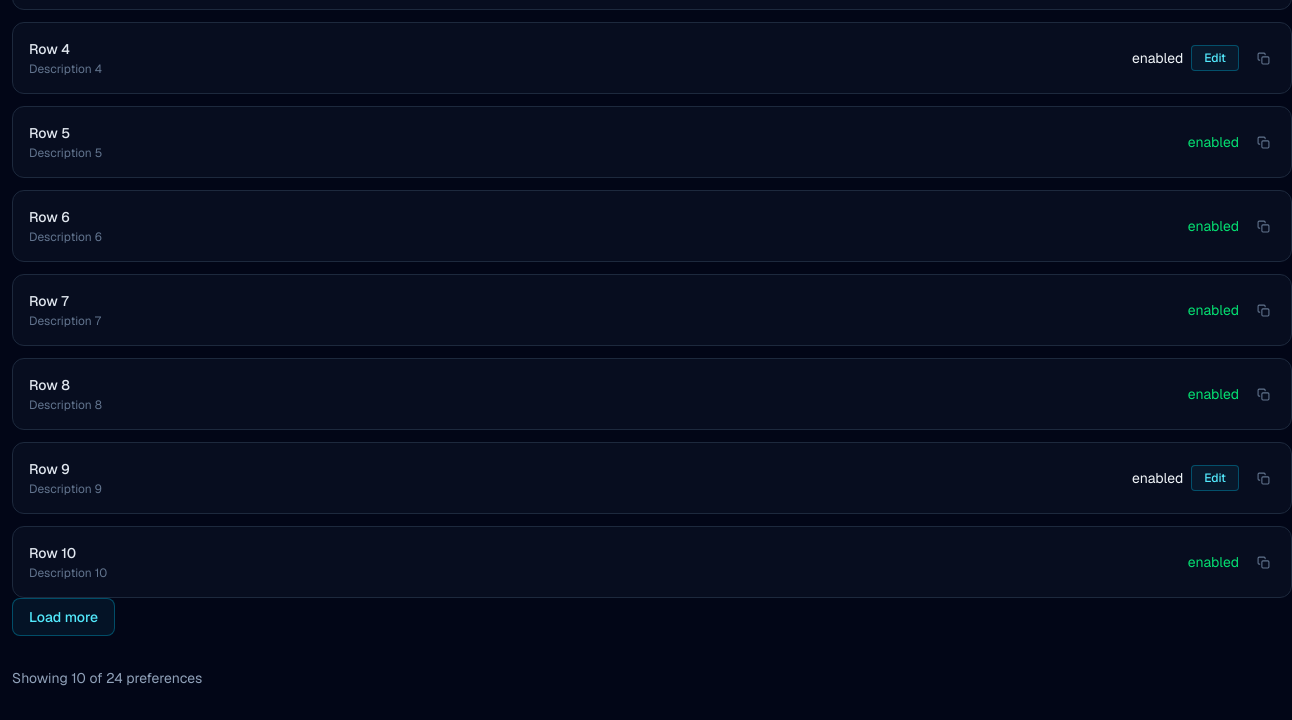
Test: SettingsPage – reset-on-filter behavior › clearing filters back to defaults shows every row again on the first page
(page scrolled)
Click the button with test id "settings-load-more" at (64,617), box [12, 598, 115, 636]
(page scrolled)
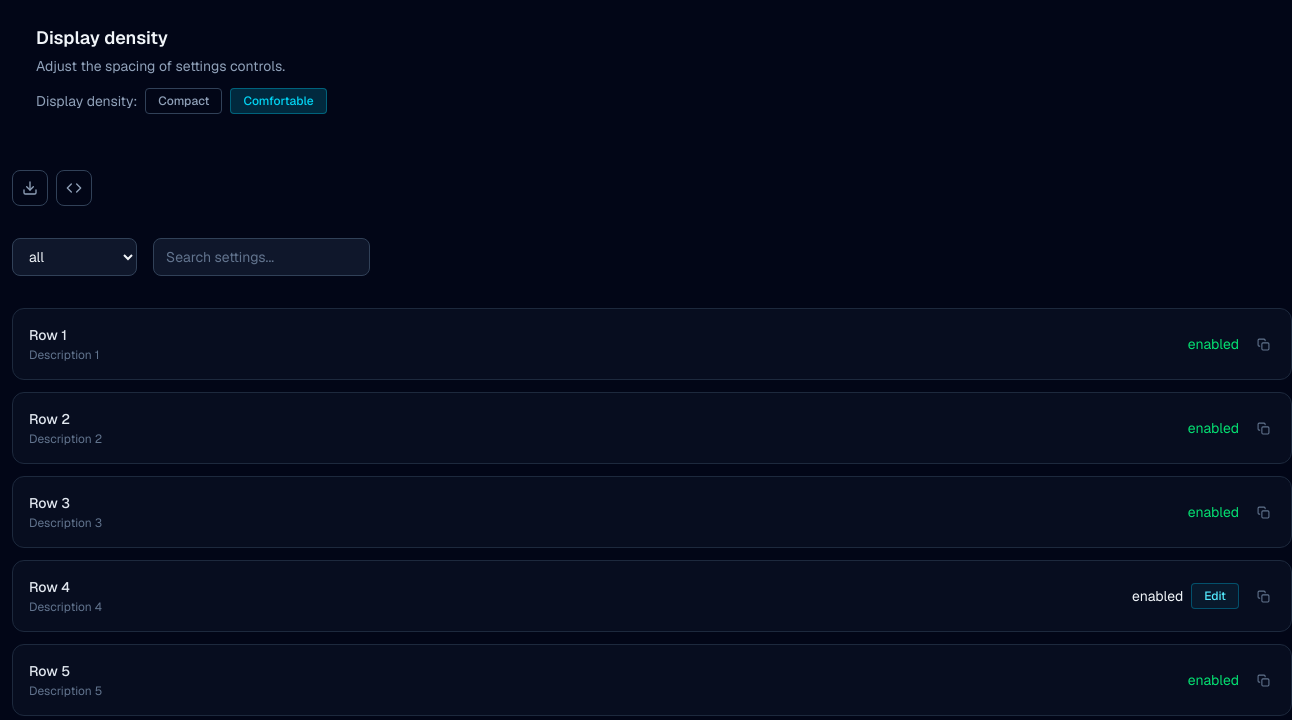
Expected: the number of list items is 20
Note: Apply a category filter, then reset to show every row again.
Select "display" in the dropdown with test id "settings-category-filter" at (74,257), box [12, 238, 137, 276]
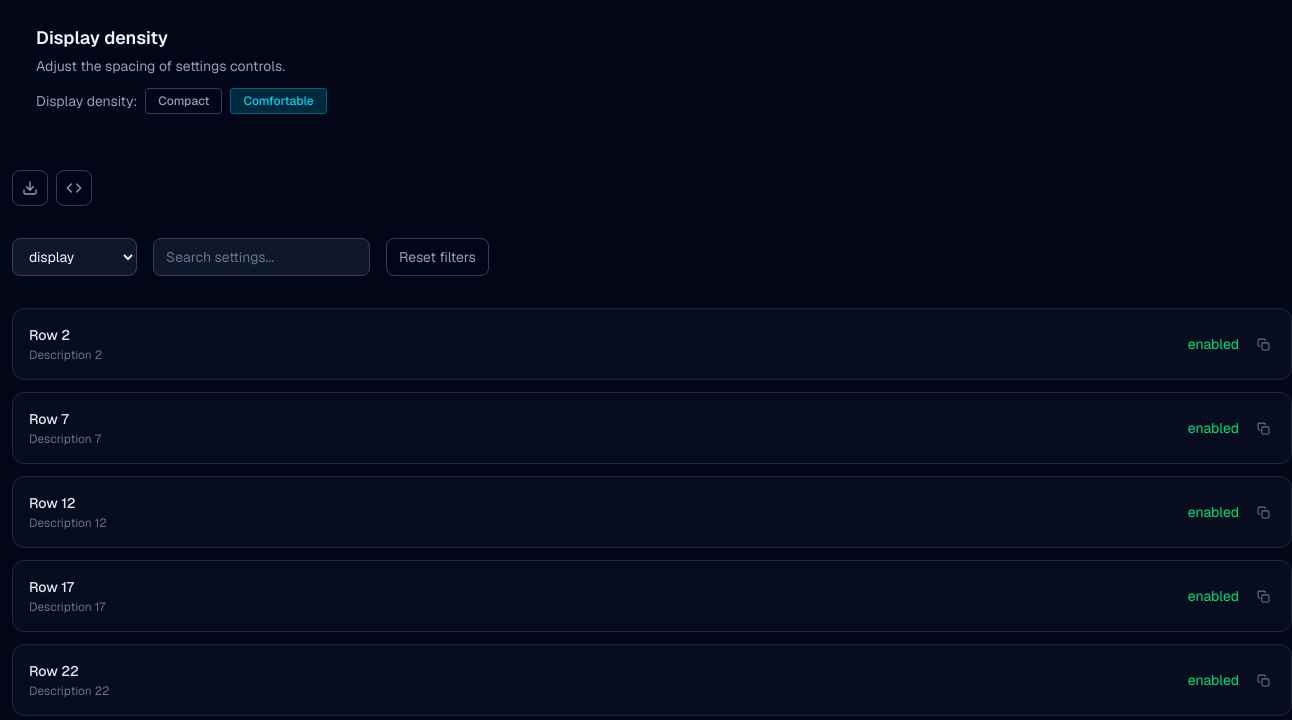
Click the button "Reset filters" at (437,257), box [386, 238, 489, 276]
(page scrolled)
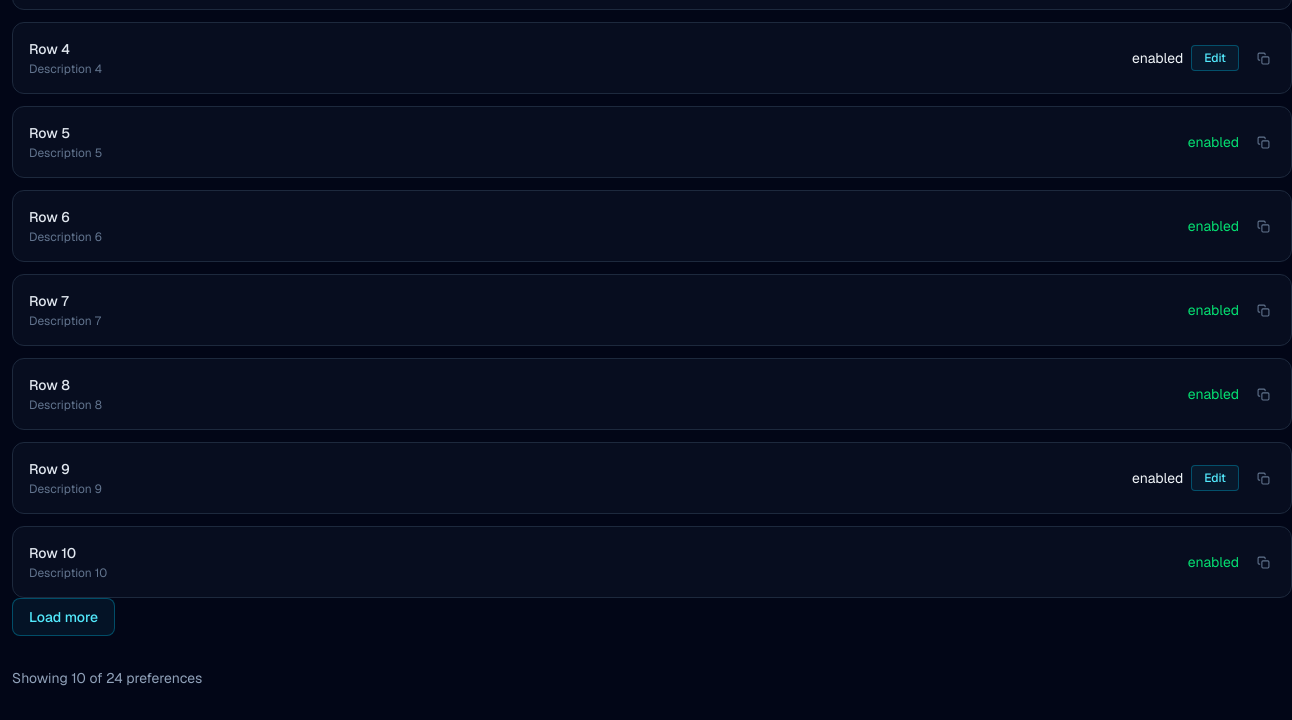
Expected: the number of list items is 10
Expected: the button with test id "settings-load-more" is shown, [12, 598, 115, 636]
